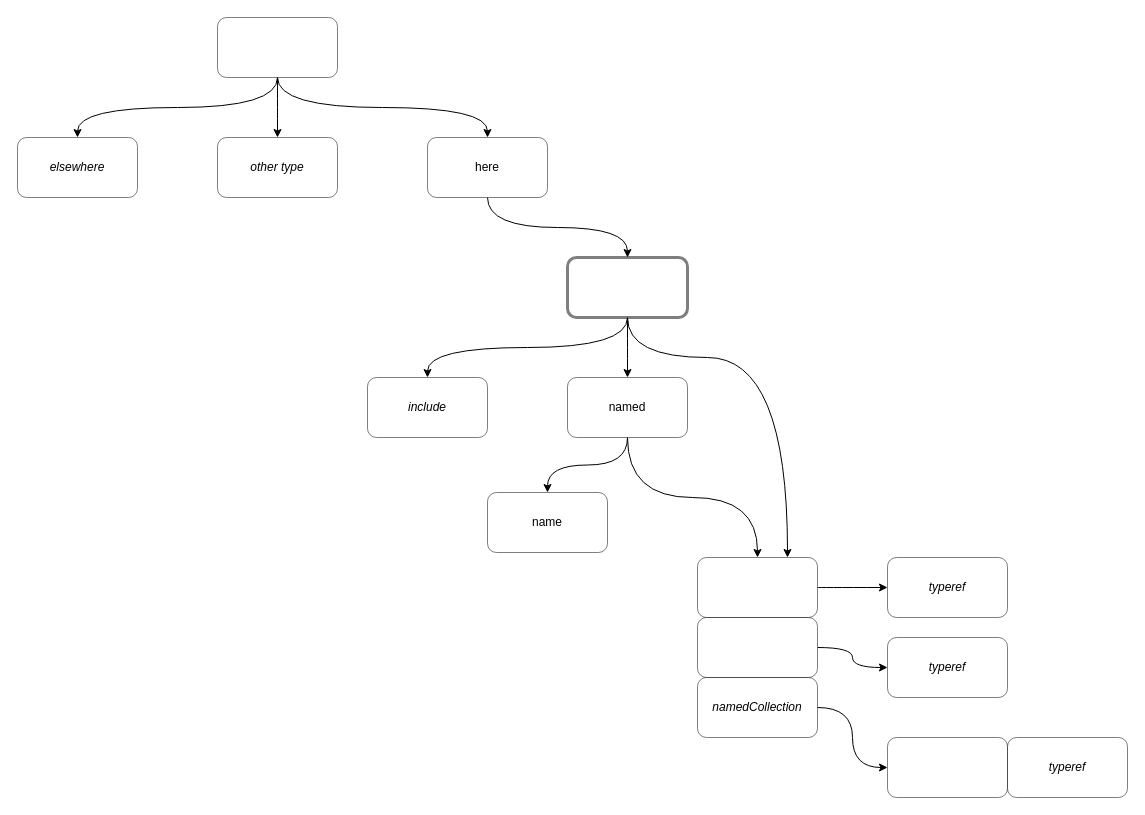
Image size: 1145x815. Some labels were removed from this diagram. The box of each missing label's shape, as (x1, y1, x2, y2) in pixels:
basic: (696, 556, 818, 618)
collection: (696, 616, 818, 678)
collectionName: (886, 736, 1008, 798)
fields: (566, 256, 688, 318)
type: (216, 16, 338, 78)
